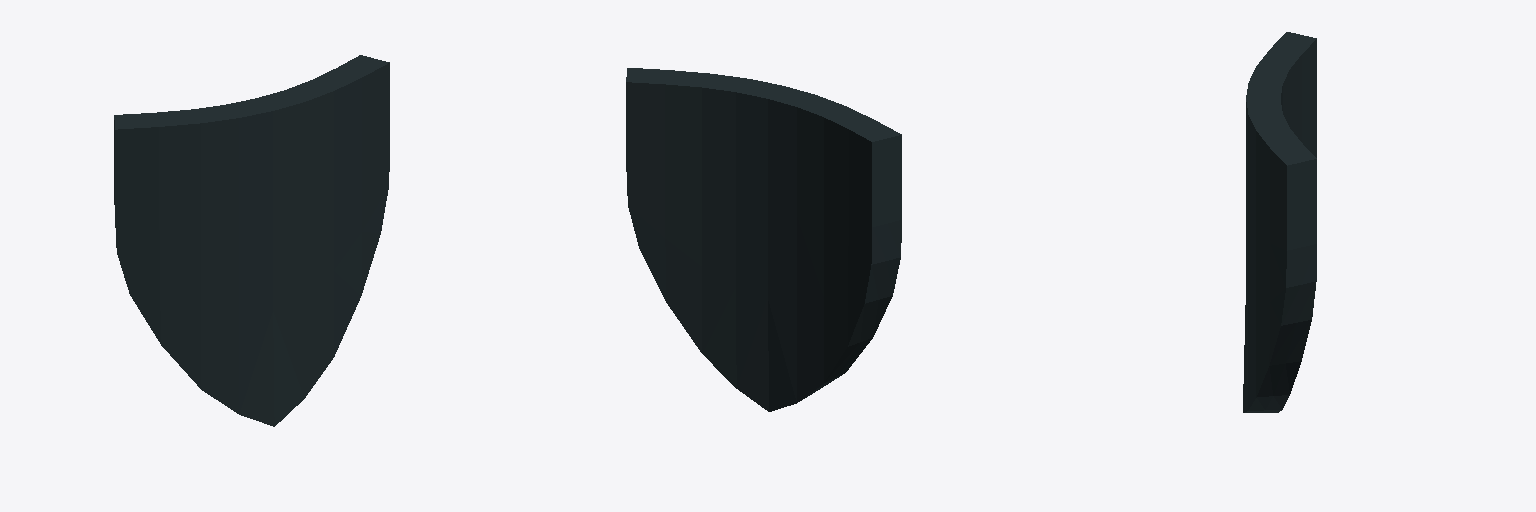
File: Shield_model.obj
3 renders of one model, left to right at view 1: azimuth 30°, elevation 25°; view 2: azimuth 150°, elevation 25°; view 3: azimuth 270°, elevation 25°, orthographic.
Parts seen in each view (by area): view 1: Shield_Cube; view 2: Shield_Cube; view 3: Shield_Cube.
Boxes of the visible parts, box(x1,y1,x2,y2) form: Shield_Cube: box(114, 55, 389, 426); Shield_Cube: box(626, 68, 901, 411); Shield_Cube: box(1243, 32, 1316, 412).
Size of the model in its own units: 0.9555 by 1.04 by 0.2239.